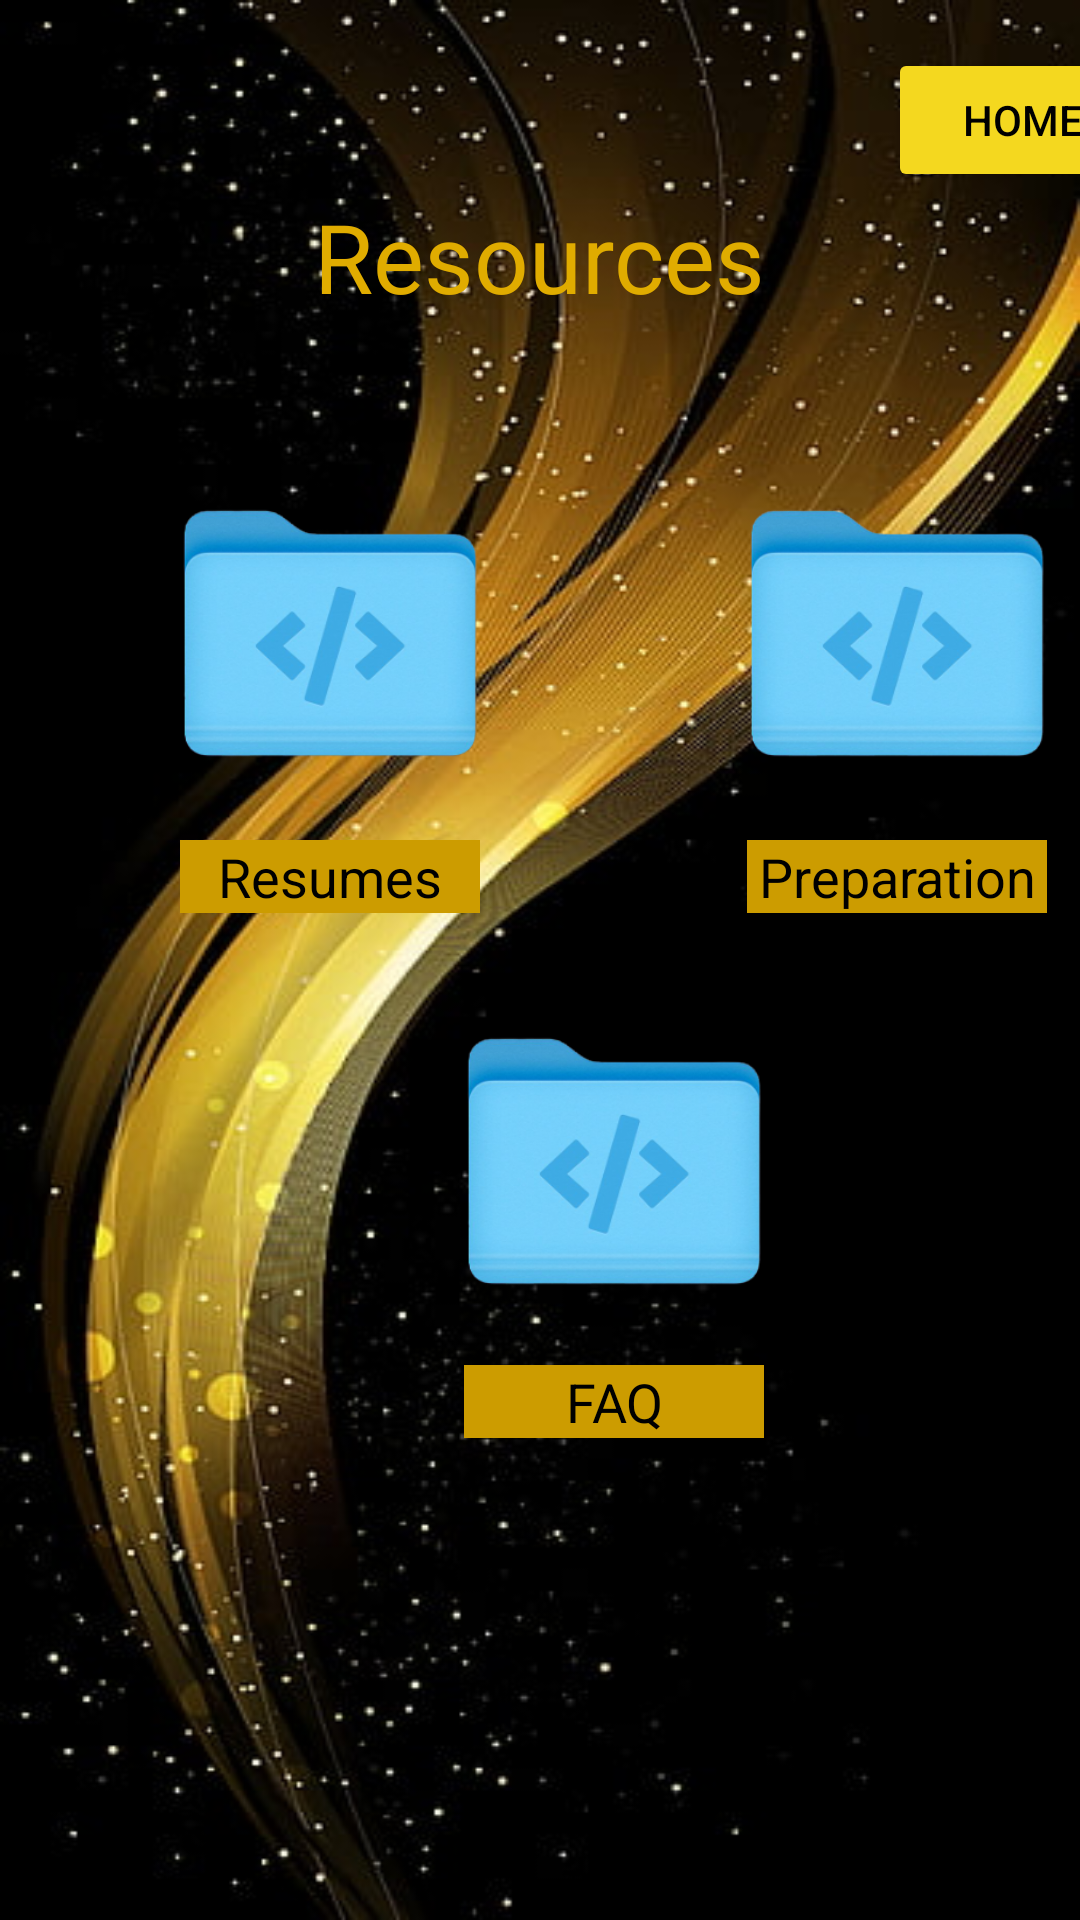

Icon click points for this 1080×1920 phone screenshot, format point (x, y):
foldericon: point (330, 633), point (897, 633), point (612, 1160)
